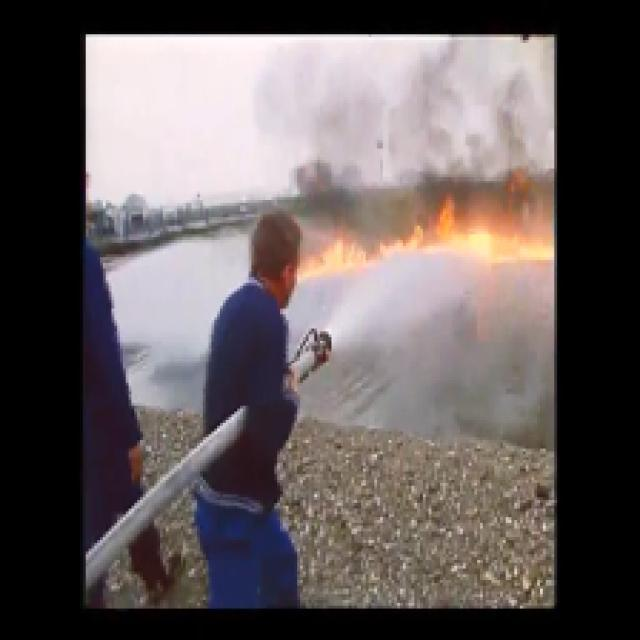Fire: (307, 230, 552, 270)
Smoke: (295, 66, 534, 192)
